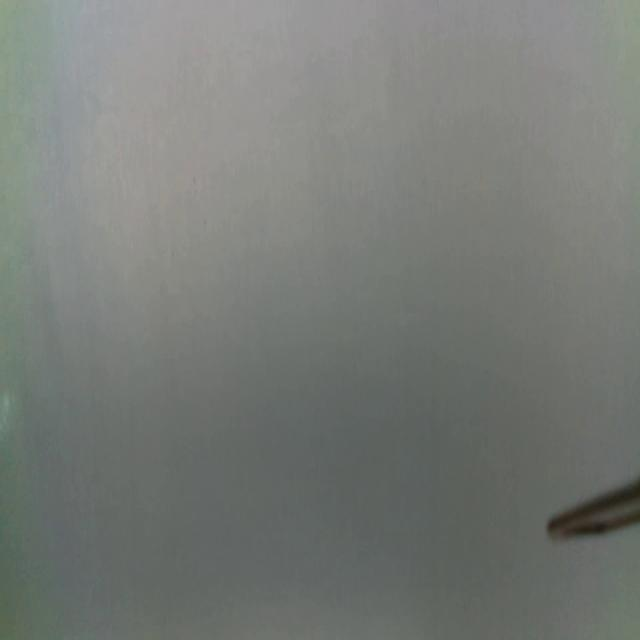hole: (190, 173, 197, 185), (194, 186, 200, 197)
